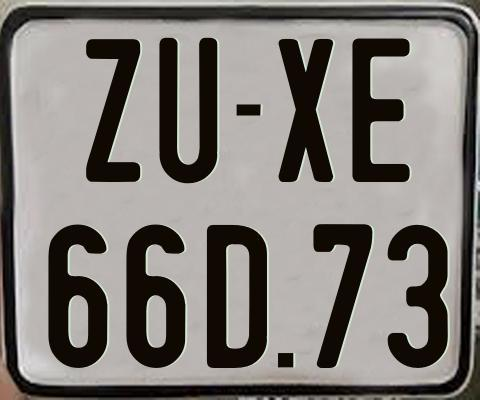3: (385, 222, 451, 369)
6: (45, 222, 106, 366), (124, 221, 184, 367)
7: (310, 224, 372, 372)
D: (206, 224, 272, 373)
E: (349, 38, 412, 183)
U: (159, 38, 217, 183)
X: (275, 39, 332, 187)
Z: (84, 39, 142, 183)
